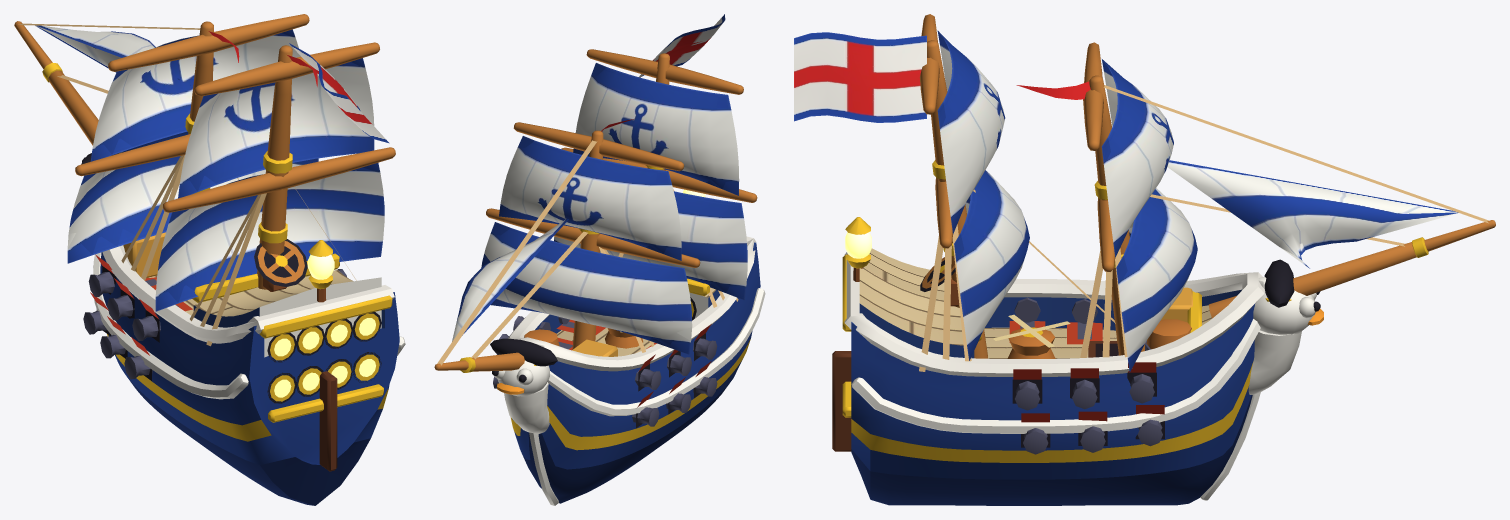
File: navy_galleon.glb
3 renders of one model, left to right at view 1: azimuth 30°, elevation 25°; view 2: azimuth 150°, elevation 25°; view 3: azimuth 270°, elevation 25°, orthographic. The views are drawn at different scales.
Parts seen in each view (by area): view 1: Hull, Rigging, Sail1_0, Sail1_1, Sail0_1, Sail0_0, Guns0, Jib, Flag; view 2: Hull, Sail0_0, Sail0_1, Rigging, Sail1_1, Sail1_0, Guns0, Jib, Flag; view 3: Hull, Rigging, Jib, Flag, Sail0_0, Sail1_0, Sail0_1, Sail1_1, Guns0.
Part boxes in pixels (box(x1,y1,x2,y2)): Hull: box(81, 152, 405, 505); Rigging: box(14, 14, 395, 346); Sail1_0: box(155, 163, 384, 311); Sail1_1: box(178, 58, 374, 198); Sail0_1: box(90, 29, 300, 161); Sail0_0: box(67, 131, 318, 263); Guns0: box(83, 269, 346, 379); Jib: box(35, 25, 179, 80); Flag: box(289, 43, 389, 143); Hull: box(490, 189, 765, 505); Sail0_0: box(481, 222, 692, 354); Sail0_1: box(499, 136, 681, 260); Rigging: box(434, 41, 757, 372); Sail1_1: box(573, 63, 739, 195); Sail1_0: box(554, 191, 747, 300); Guns0: box(493, 316, 717, 426); Jib: box(452, 218, 568, 341); Flag: box(639, 14, 725, 77); Hull: box(832, 217, 1323, 505); Rigging: box(919, 14, 1495, 371); Jib: box(1167, 160, 1458, 268); Flag: box(794, 32, 926, 122); Sail0_0: box(1116, 188, 1197, 372); Sail1_0: box(954, 170, 1029, 360); Sail0_1: box(1101, 59, 1173, 257); Sail1_1: box(937, 30, 1005, 234); Guns0: box(1009, 297, 1162, 454).
Bounding box in the file's own units: 1.5 × 2.55 × 3.45.
Materials: 9 (4 with a texture image).
